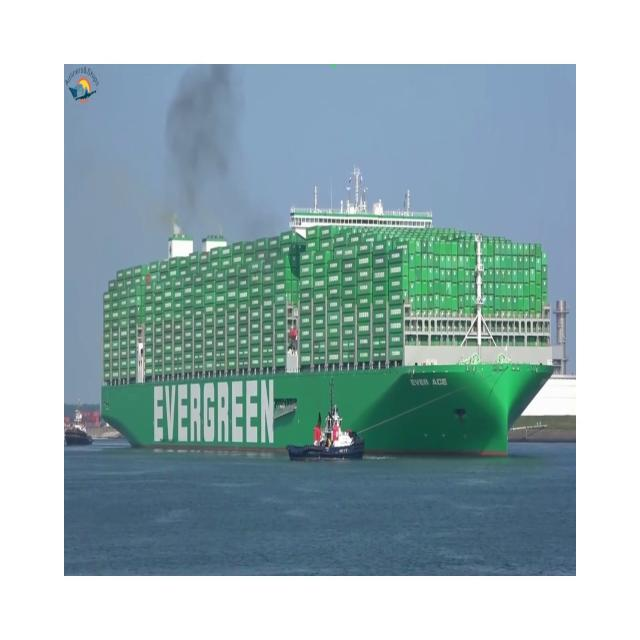OCR: (145, 376, 284, 457), (402, 369, 450, 392)
